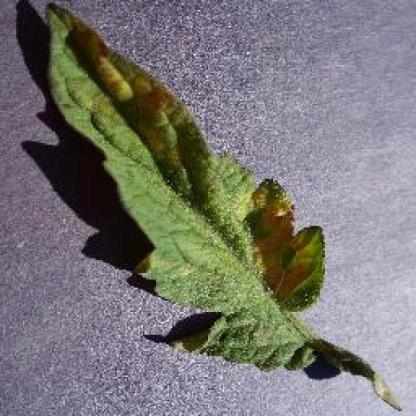Tomato_Leaf_Mold: (43, 4, 328, 312)
